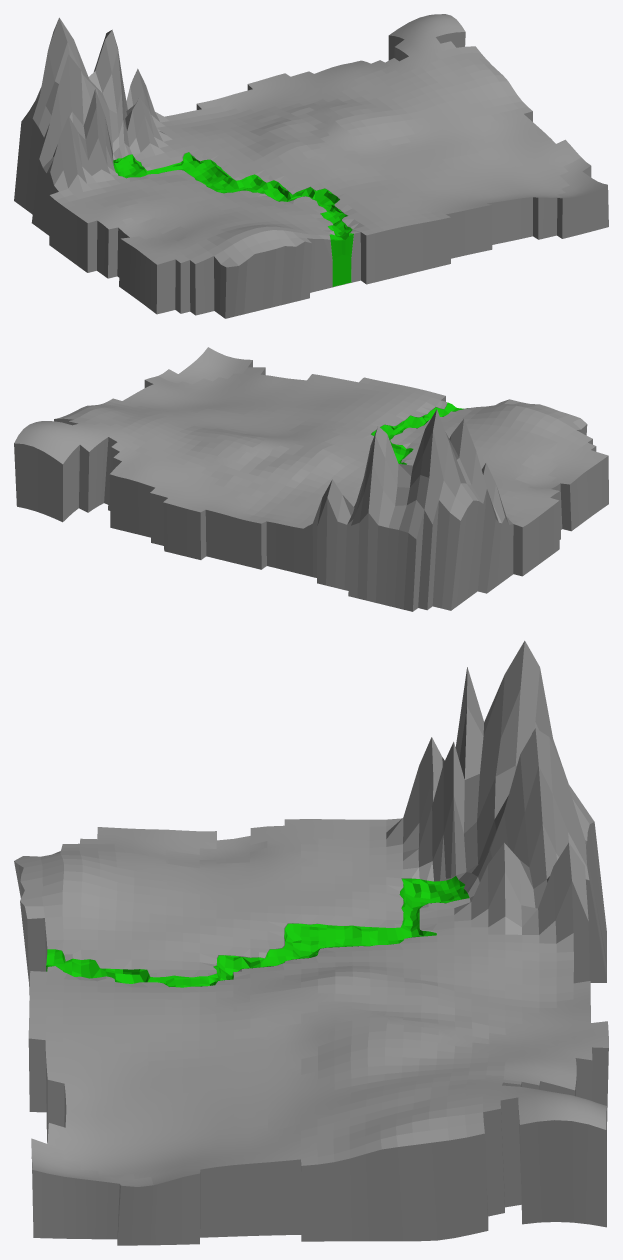
File: ile hiver02.FBX
3 renders of one model, top to bottom at view 1: azimuth 30°, elevation 25°; view 2: azimuth 150°, elevation 25°; view 3: azimuth 270°, elevation 25°, orthographic. The views are drawn at different scales.
Visible parts, largest first — view 1: Box2; view 2: Box2; view 3: Box2.
Boxes of the visible parts, x1,y1,x2,y2 form: Box2: [14, 14, 608, 318]; Box2: [14, 347, 608, 611]; Box2: [14, 640, 608, 1245].
Size of the model in its own units: 1909 by 771 by 1380.
